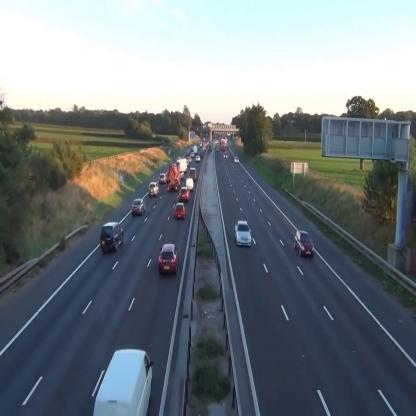car: (100, 222, 124, 250), (158, 243, 179, 274), (294, 231, 314, 257), (235, 220, 252, 246), (131, 198, 146, 216), (174, 203, 186, 218), (179, 187, 190, 202), (149, 182, 159, 196), (186, 178, 194, 190), (160, 173, 166, 182), (233, 155, 238, 162)
lorry: (94, 347, 155, 416), (168, 164, 180, 189)
